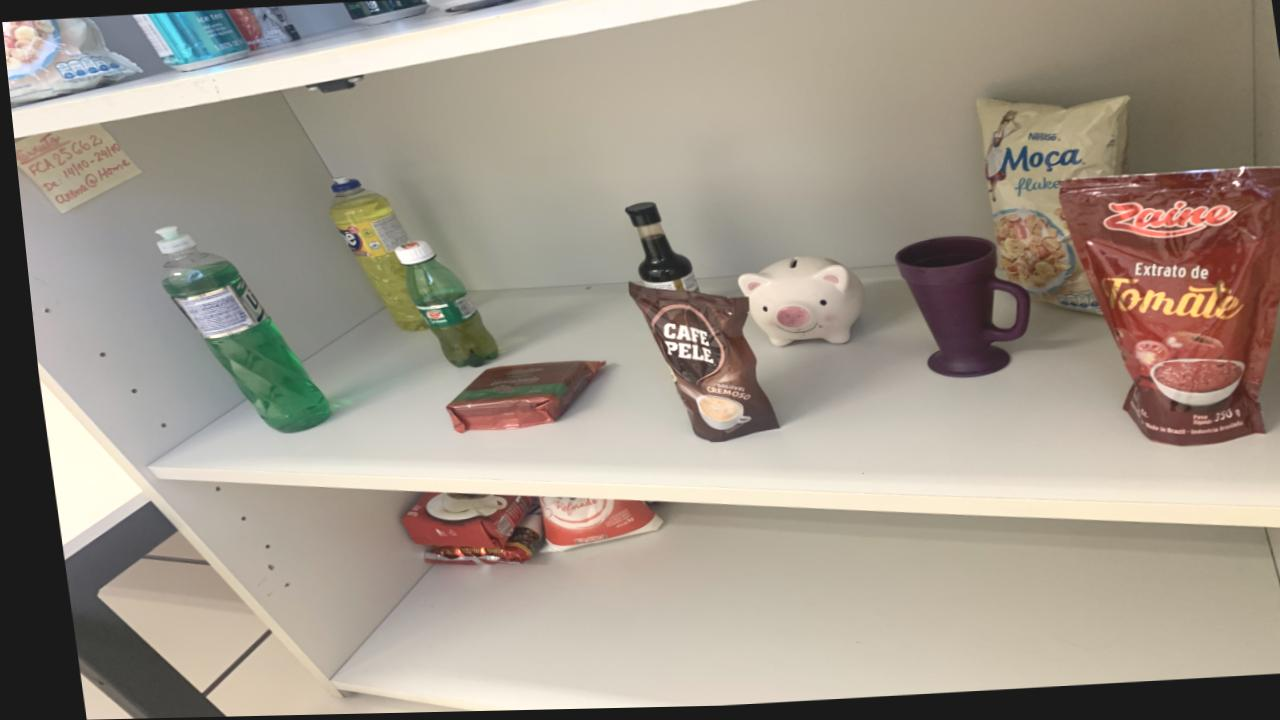Coffee-Pantry_Items: (622, 285, 769, 445)
Detergent-Cleanup_Items: (151, 226, 321, 434), (325, 179, 421, 333)
English_Sauce-Pantry_Items: (621, 205, 693, 295)
Flakes-Snacks: (972, 101, 1127, 318), (2, 18, 138, 107), (226, 8, 300, 51), (426, 0, 523, 15)
Guarana-Drinks: (390, 243, 490, 370)
Guarana_Can-Drinks: (344, 0, 429, 28)
Guava-Snacks: (438, 363, 596, 434)
Pig_Safe-Miscellaneous: (732, 260, 858, 351)
Tea-Drinks: (134, 11, 249, 71)
Tomato_Sauce-Pantry_Items: (1054, 173, 1280, 451)
Tonic-Drinks: (426, 0, 523, 15)
